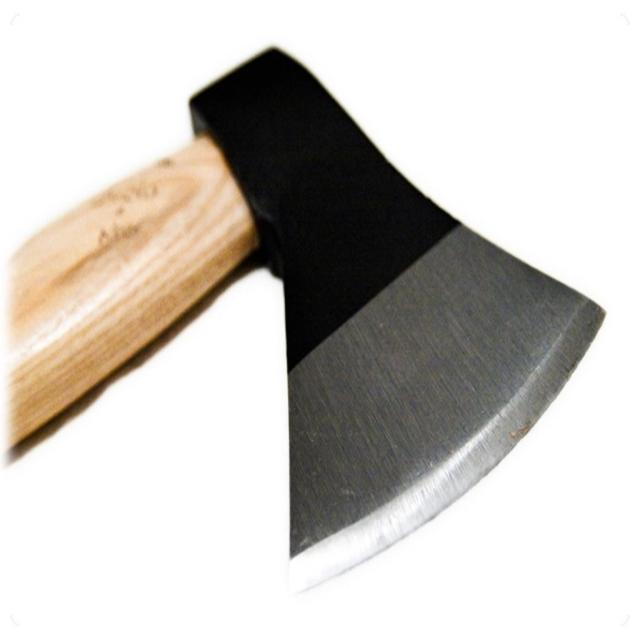Axe: (0, 47, 606, 600)
